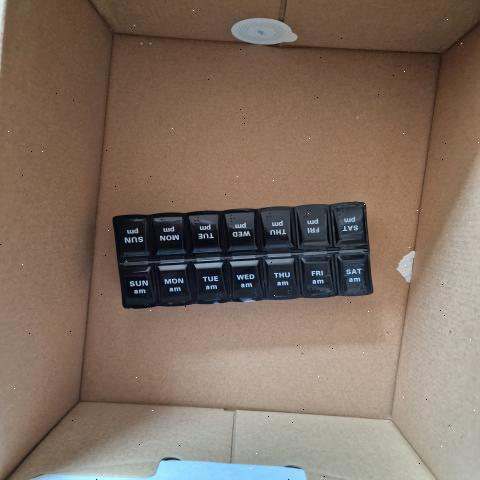FRI-am: (301, 253, 340, 298)
FRI-pm: (298, 203, 336, 246)
MON-am: (159, 268, 194, 304)
MON-pm: (154, 214, 186, 253)
SAT-am: (340, 250, 377, 294)
SAT-pm: (335, 202, 367, 245)
SUN-am: (121, 267, 158, 307)
SUN-pm: (116, 216, 157, 255)
THU-am: (263, 256, 308, 296)
THU-pm: (263, 208, 294, 250)
TUE-am: (197, 264, 229, 302)
TUE-pm: (190, 215, 221, 256)
WED-am: (235, 260, 264, 301)
WED-pm: (227, 210, 259, 252)
